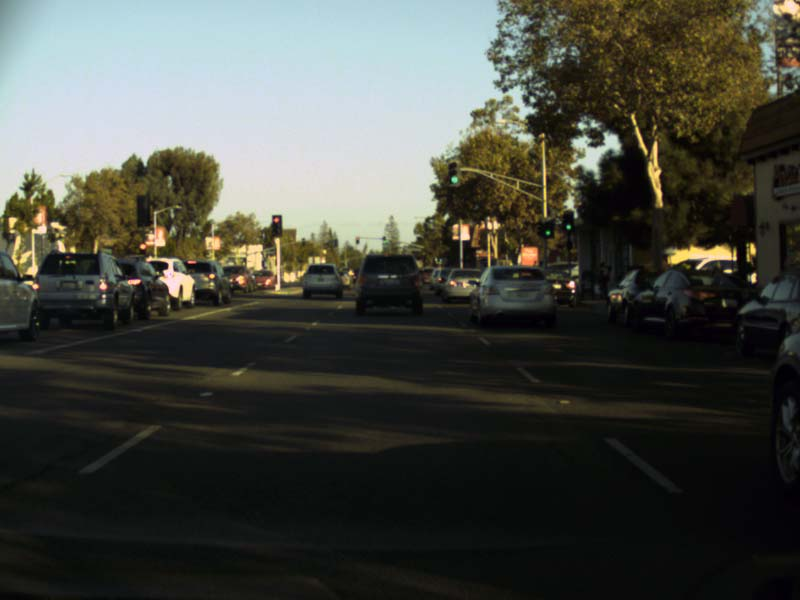Green: (447, 159, 460, 186), (540, 217, 553, 238), (563, 211, 573, 231), (382, 236, 385, 243)
Red: (272, 215, 281, 236), (138, 243, 146, 260), (355, 236, 359, 244)
